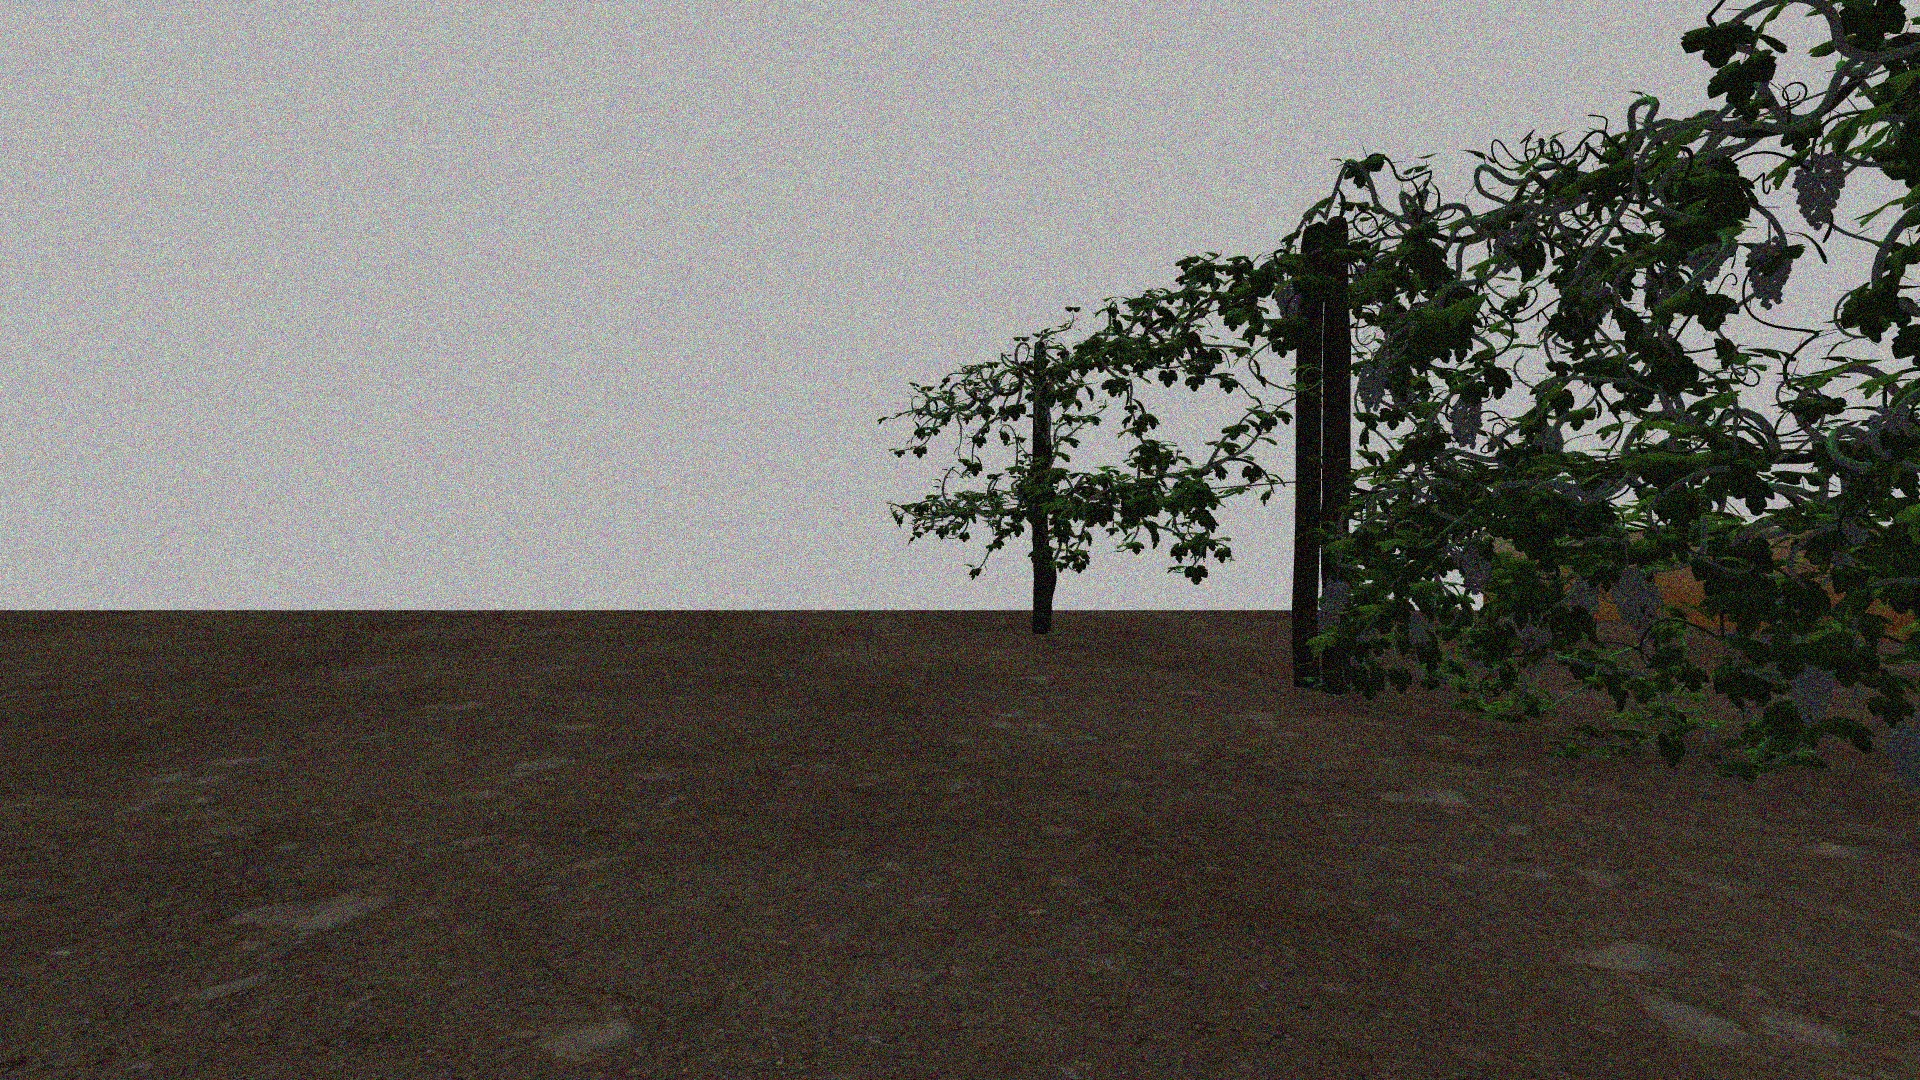grape: (1791, 152, 1847, 227), (1788, 655, 1840, 727), (1746, 239, 1795, 309), (1883, 720, 1917, 789), (1518, 622, 1553, 675), (1451, 393, 1484, 450), (1611, 568, 1646, 622), (1356, 361, 1389, 411), (1461, 543, 1493, 593), (1569, 575, 1601, 618), (1404, 608, 1437, 645), (1324, 580, 1350, 618), (1274, 285, 1302, 319), (1317, 611, 1340, 636)
